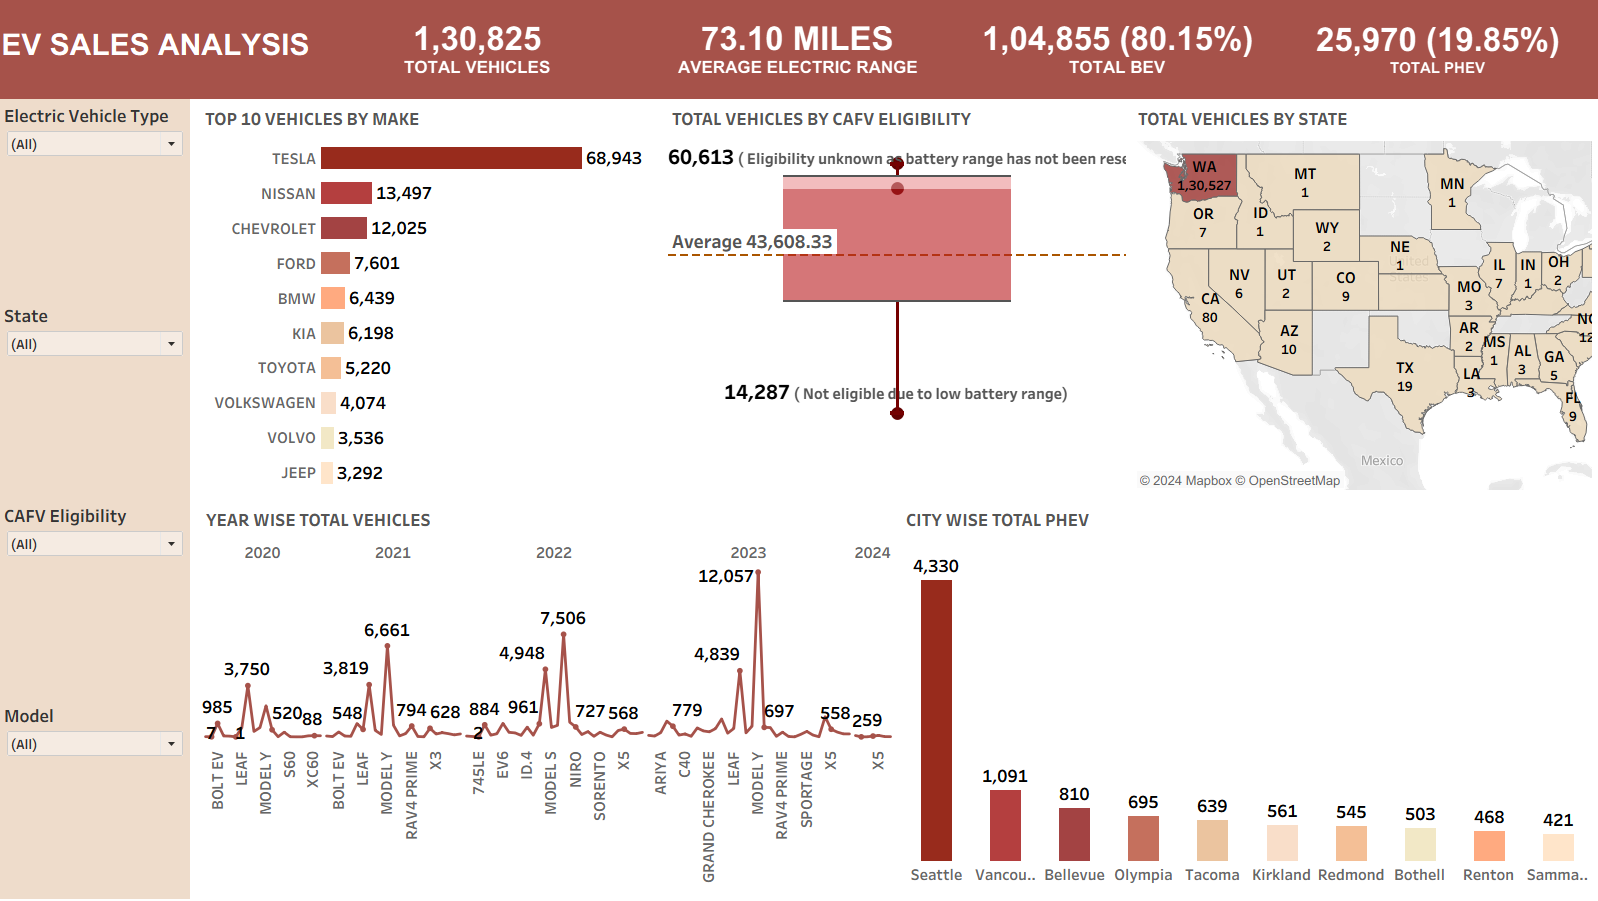

The dashboard page shown, as its layout file describes it:
{"tool":"tableau","page":{"name":"Dashboard 1","canvas":[1600,900],"ordinal":0},"visuals":[{"type":"text","box":[0,0,320,100]},{"type":"worksheet","title":"KPI 1","mark":"Automatic","box":[320,0,320,100]},{"type":"worksheet","title":"KPI 2","mark":"Automatic","box":[640,0,320,100]},{"type":"worksheet","title":"KPI 3","mark":"Automatic","box":[960,0,320,100]},{"type":"worksheet","title":"KPI 4","mark":"Automatic","box":[1280,0,320,100]},{"type":"filter","title":"Top Vehicles by Make","param":"[federated.0dvrlec0sh9d1k1a7c0ti05behht].[none:Electric Vehicle Type:nk]","box":[2,100,190,200]},{"type":"worksheet","title":"Top Vehicles by Make","mark":"Automatic","rows":["Make"],"cols":["Calculation_1064819898420584448"],"box":[199,100,467,395]},{"type":"worksheet","title":"CAFG Eligibility","mark":"Circle","rows":["Calculation_1064819898420584448"],"box":[666,100,466,395]},{"type":"worksheet","title":"Total Vehicles by State","mark":"Automatic","box":[1132,100,466,395]},{"type":"filter","title":"Top Vehicles by Make","param":"[federated.0dvrlec0sh9d1k1a7c0ti05behht].[none:State:nk]","box":[2,300,190,200]},{"type":"filter","title":"Top Vehicles by Make","param":"[federated.0dvrlec0sh9d1k1a7c0ti05behht].[none:Clean Alternative Fuel Vehicle (C","box":[2,500,190,200]},{"type":"worksheet","title":"Total Vehicles by Year","mark":"Area","rows":["Calculation_1064819898420584448"],"cols":["Model Year"],"box":[200,501,700,390]},{"type":"worksheet","title":"City wise total PHEV","mark":"Automatic","rows":["Calculation_1064819898424438788"],"cols":["City"],"box":[900,501,699,390]},{"type":"filter","title":"Top Vehicles by Make","param":"[federated.0dvrlec0sh9d1k1a7c0ti05behht].[none:Model:nk]","box":[2,700,190,200]}]}

Visuals, with their boxes in screenshot pixels (x1, y1, x2, y2), scaled from the page's 1600x900 canvas onto the 1598x901 screenshot:
text: <bbox>0, 0, 320, 100</bbox>
"KPI 1" worksheet: <bbox>320, 0, 639, 100</bbox>
"KPI 2" worksheet: <bbox>639, 0, 959, 100</bbox>
"KPI 3" worksheet: <bbox>959, 0, 1278, 100</bbox>
"KPI 4" worksheet: <bbox>1278, 0, 1597, 100</bbox>
"Top Vehicles by Make" filter: <bbox>2, 100, 192, 300</bbox>
"Top Vehicles by Make" worksheet: <bbox>199, 100, 665, 496</bbox>
"CAFG Eligibility" worksheet (Circle marks): <bbox>665, 100, 1131, 496</bbox>
"Total Vehicles by State" worksheet: <bbox>1131, 100, 1596, 496</bbox>
"Top Vehicles by Make" filter: <bbox>2, 300, 192, 501</bbox>
"Top Vehicles by Make" filter: <bbox>2, 501, 192, 701</bbox>
"Total Vehicles by Year" worksheet (Area marks): <bbox>200, 502, 899, 892</bbox>
"City wise total PHEV" worksheet: <bbox>899, 502, 1597, 892</bbox>
"Top Vehicles by Make" filter: <bbox>2, 701, 192, 900</bbox>
